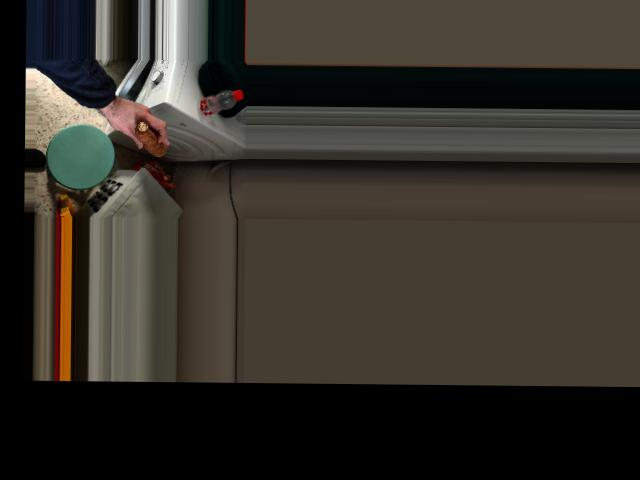sweet_potato: (130, 117, 170, 155)
